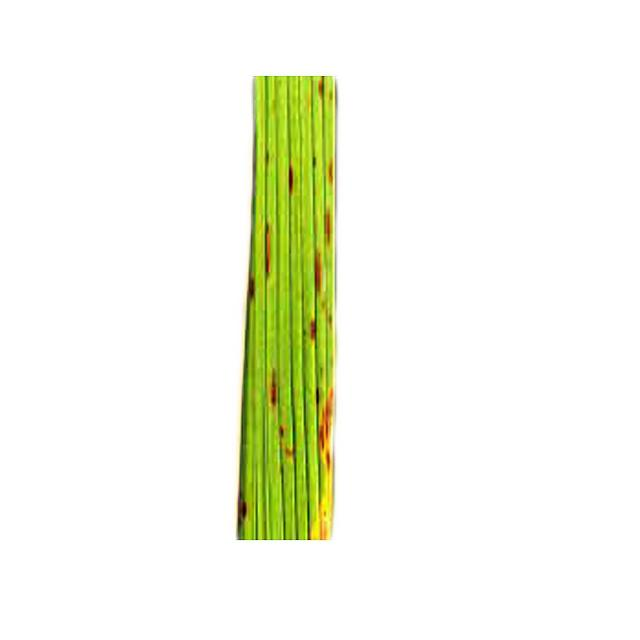Narrow brown: (215, 34, 368, 552)
